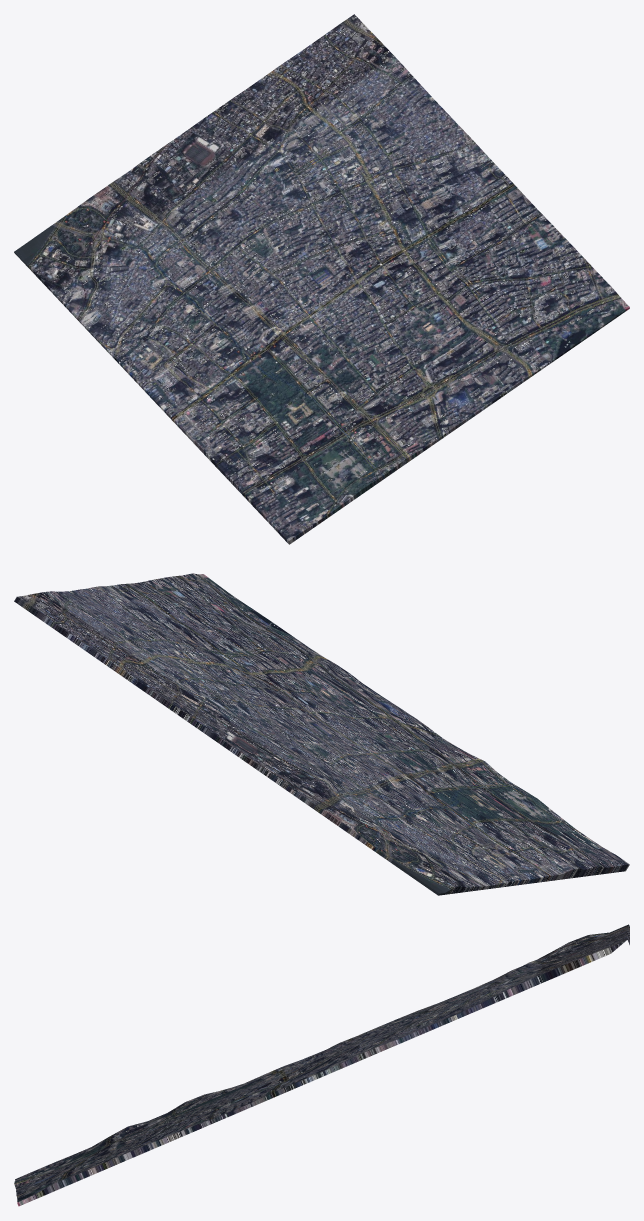
The picture shows the model from 3 angles, top to bottom: view 1: azimuth 30°, elevation 25°; view 2: azimuth 150°, elevation 25°; view 3: azimuth 270°, elevation 25°; orthographic projection. The views are drawn at different scales.
Parts seen in each view (by area): view 1: 2_2_2; view 2: 2_2_2; view 3: 2_2_2.
Boxes of the visible parts, x1,y1,x2,y2 form: 2_2_2: (14, 14, 629, 544); 2_2_2: (14, 573, 629, 895); 2_2_2: (14, 924, 629, 1206).
Bounding box in the file's own units: 2449 × 1786 × 2255.
Materials: 1 (1 with a texture image).
